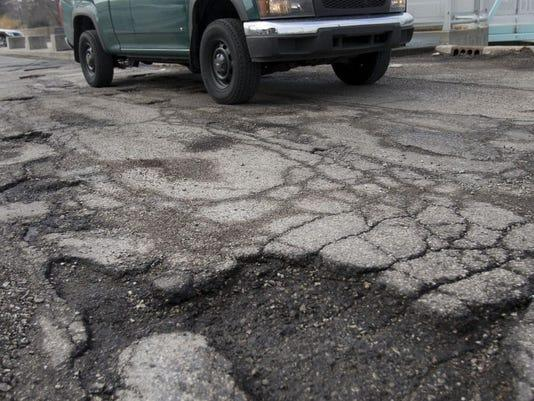Pothole: (19, 210, 528, 400), (0, 56, 92, 232)
